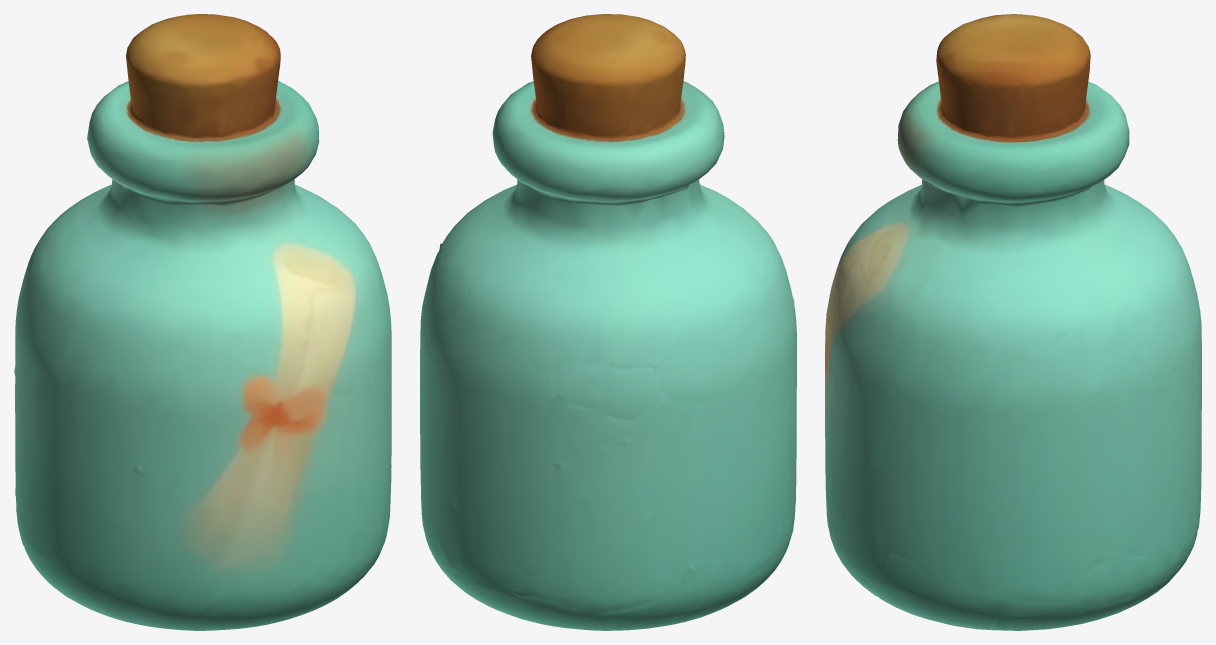
The model's file is prop_bottle.glb.
The picture shows the model from 3 angles, left to right: view 1: azimuth 30°, elevation 25°; view 2: azimuth 150°, elevation 25°; view 3: azimuth 270°, elevation 25°; orthographic projection.
Parts seen in each view (by area): view 1: tripo_node_3df4b8fa-7391-462f-8f66-96bc22f4179f; view 2: tripo_node_3df4b8fa-7391-462f-8f66-96bc22f4179f; view 3: tripo_node_3df4b8fa-7391-462f-8f66-96bc22f4179f.
Boxes of the visible parts, x1,y1,x2,y2 form: tripo_node_3df4b8fa-7391-462f-8f66-96bc22f4179f: (14, 14, 391, 630); tripo_node_3df4b8fa-7391-462f-8f66-96bc22f4179f: (420, 14, 796, 630); tripo_node_3df4b8fa-7391-462f-8f66-96bc22f4179f: (825, 14, 1201, 630).
Size of the model in its own units: 0.6377 by 1 by 0.6377.
1 material, 1 textured.
